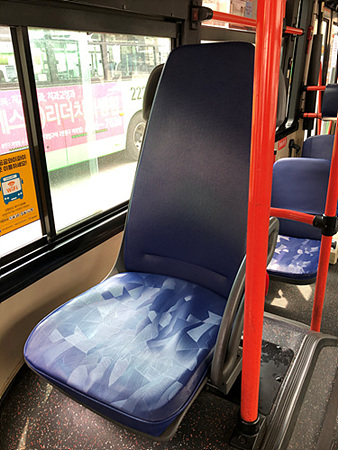seat: (24, 46, 244, 422)
